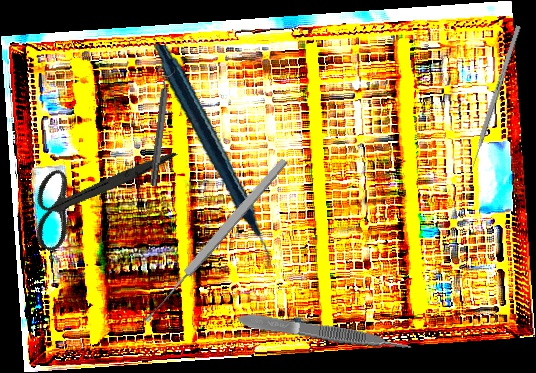Fixation Ring: (142, 65, 178, 187)
Handpiece: (121, 43, 303, 270)
Iris Scissors: (13, 101, 178, 283)
Pusher: (466, 24, 522, 178)
Surgical Spoon: (140, 156, 290, 325)
Tissue Forceps: (236, 309, 415, 358)
